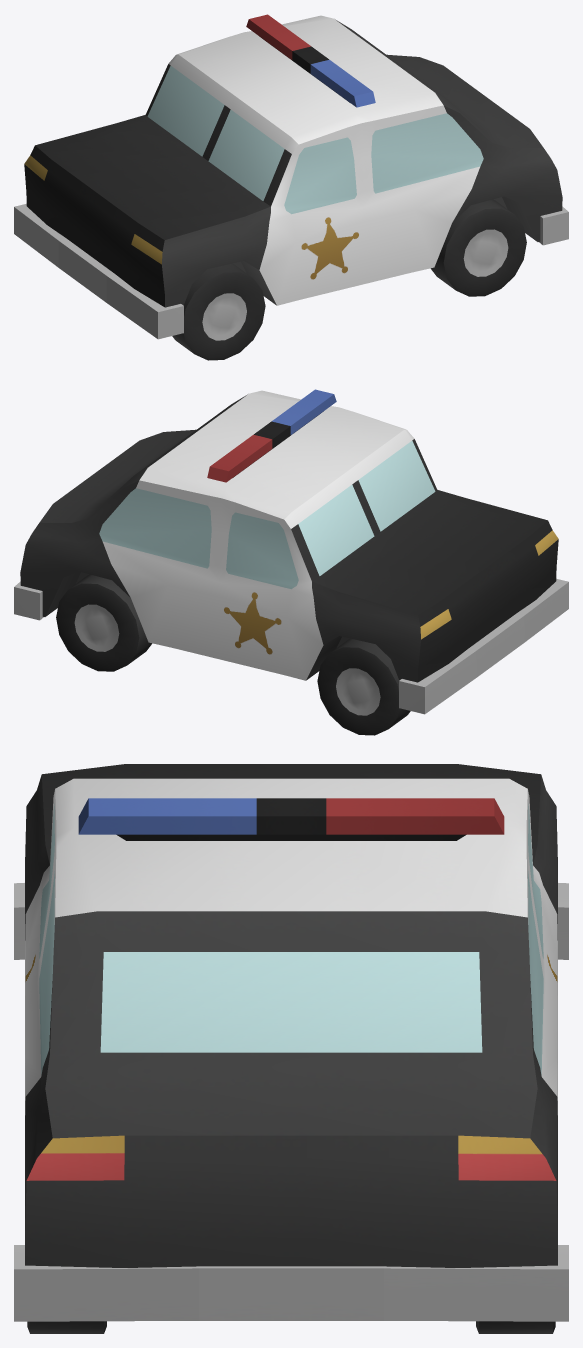
Rendered from Cop.fbx.
3 views of the same model, one above another, from view 1: azimuth 30°, elevation 25°; view 2: azimuth 150°, elevation 25°; view 3: azimuth 270°, elevation 25° (orthographic). The views are drawn at different scales.
Parts seen in each view (by area): view 1: Cop, Wheel Back_L.001, Wheel Front_L.001; view 2: Cop, Wheel Back_R.001, Wheel Front_R.001; view 3: Cop, Wheel Back_L.001, Wheel Back_R.001.
Boxes of the visible parts, <box> form: Cop: <box>14,14,568,339</box>; Wheel Back_L.001: <box>430,199,526,296</box>; Wheel Front_L.001: <box>172,263,265,360</box>; Cop: <box>14,389,568,714</box>; Wheel Back_R.001: <box>56,574,152,671</box>; Wheel Front_R.001: <box>317,638,410,735</box>; Cop: <box>14,764,568,1321</box>; Wheel Back_L.001: <box>27,1321,106,1333</box>; Wheel Back_R.001: <box>476,1321,555,1333</box>.
Bounding box in the file's own units: 490 × 243 × 293.
Materials: 1 (1 with a texture image).
